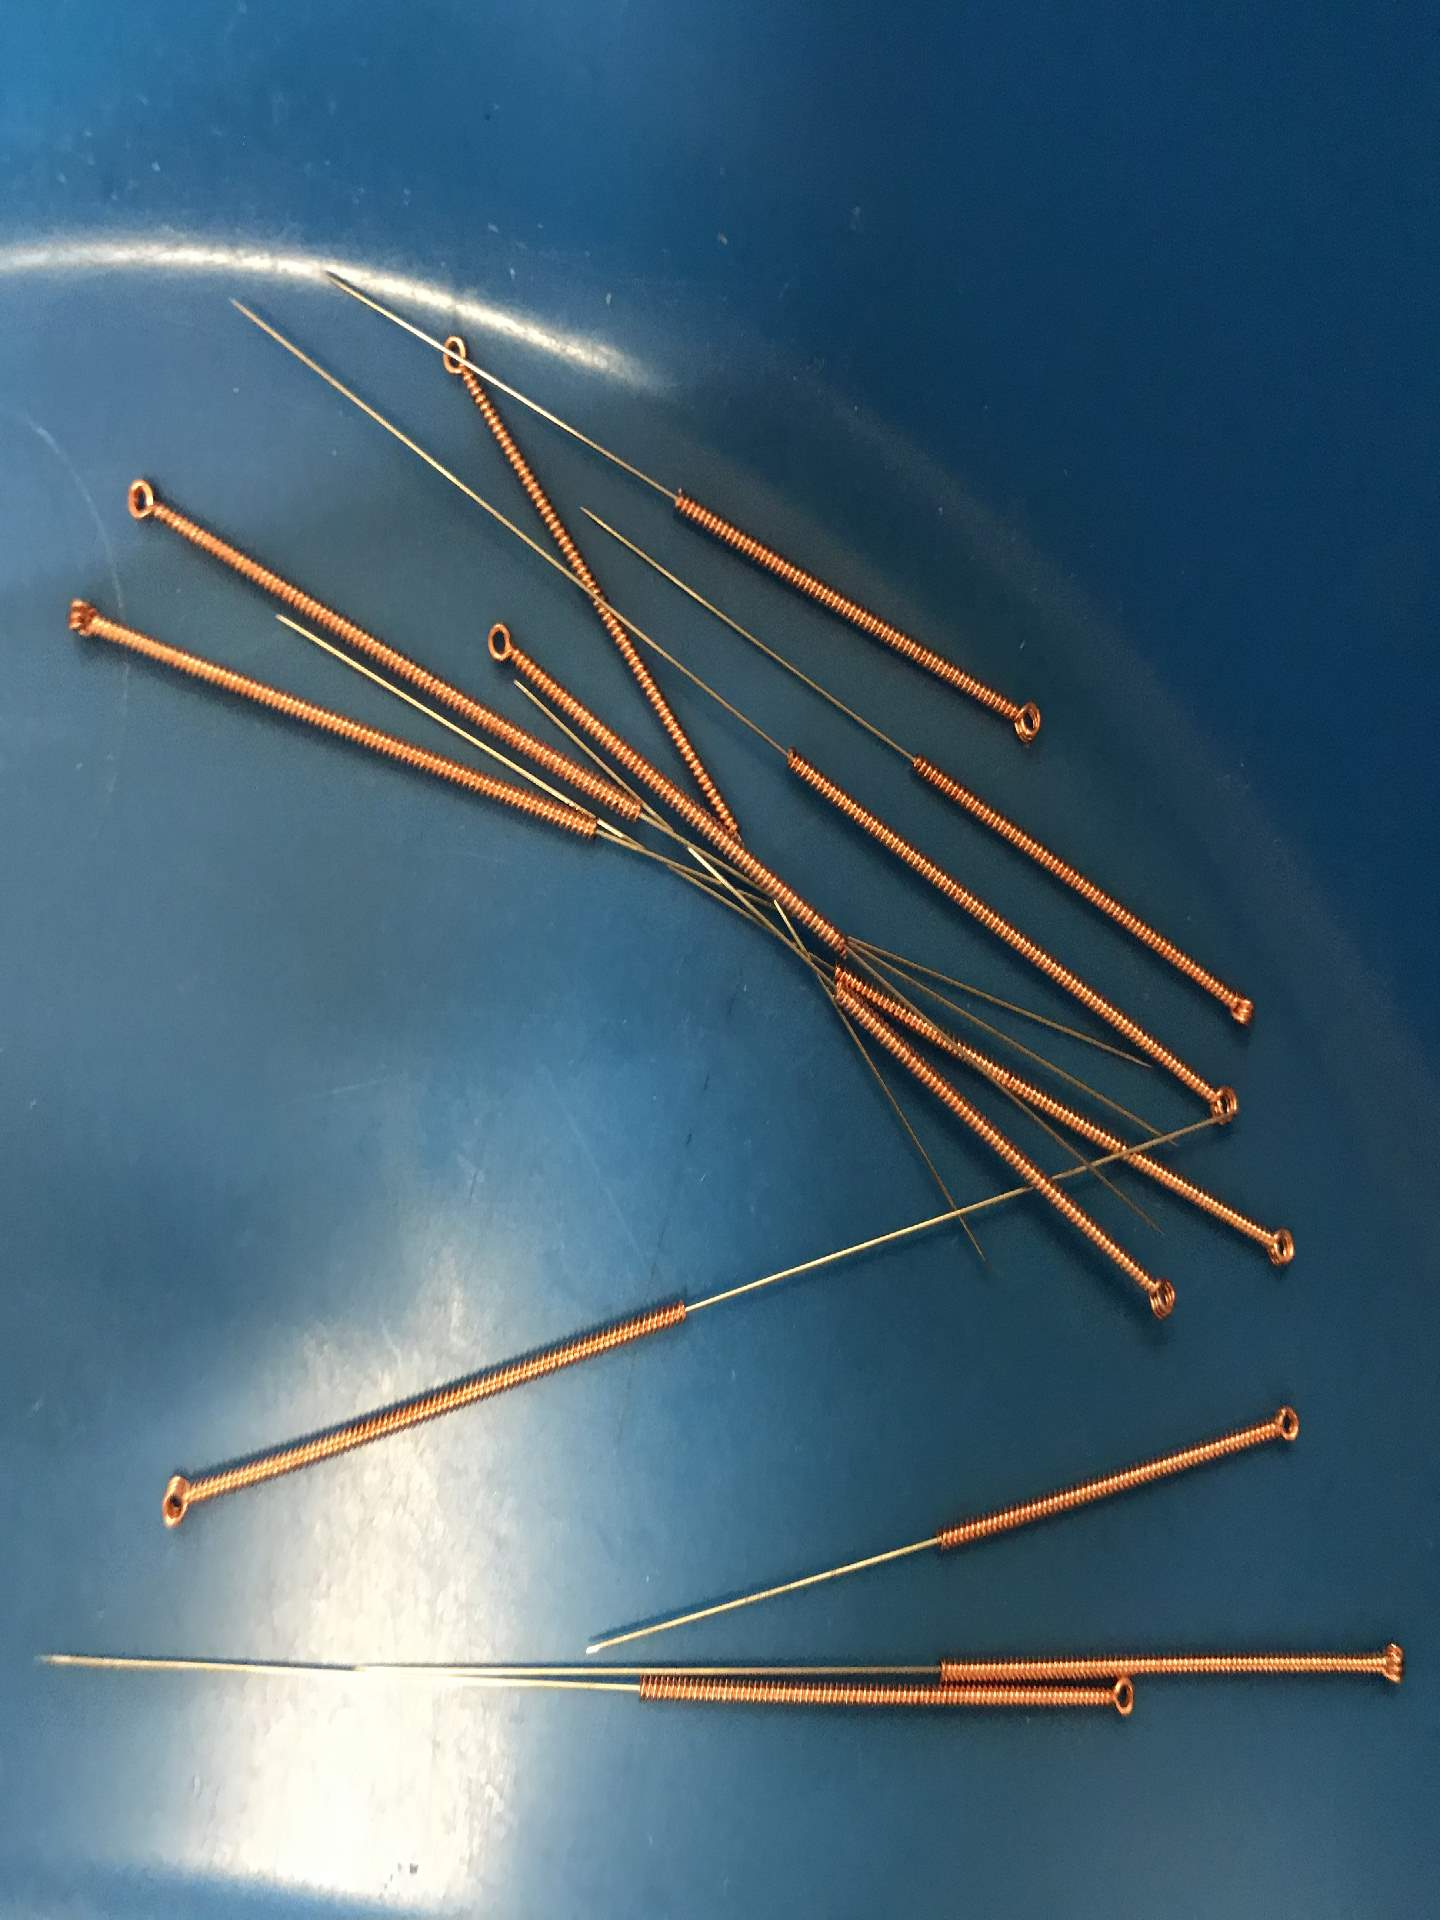needle: (47, 579, 115, 661), (106, 463, 182, 534), (147, 1457, 209, 1541), (1128, 1258, 1189, 1339), (467, 611, 535, 679), (994, 683, 1056, 757), (424, 321, 486, 393), (1242, 1217, 1310, 1277), (1077, 1671, 1150, 1726), (1254, 1391, 1313, 1457), (1187, 1072, 1249, 1134), (1358, 1633, 1416, 1696), (1209, 977, 1265, 1040)
